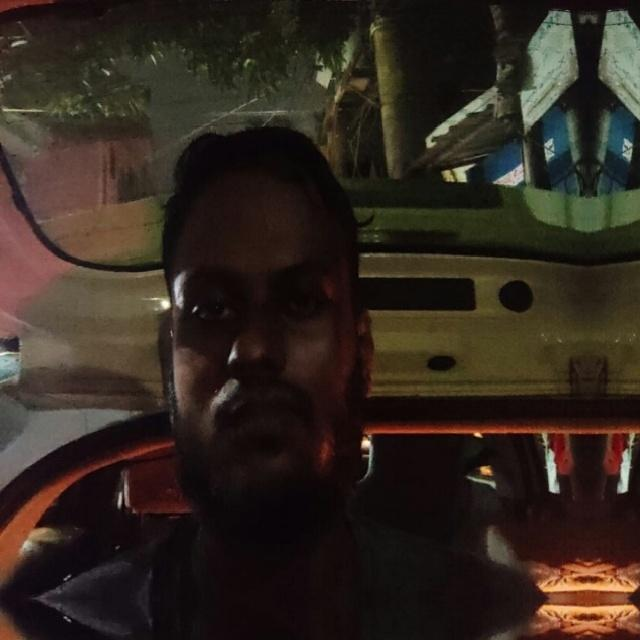Disgust: (74, 118, 467, 557)
